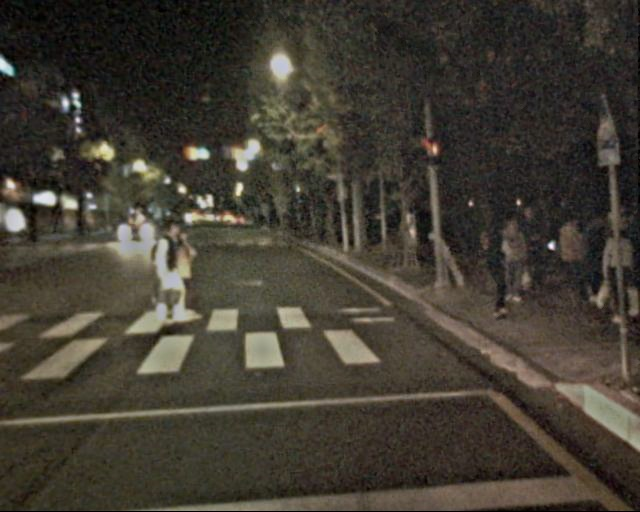person: (492, 208, 539, 326), (146, 219, 188, 321), (596, 231, 637, 330), (157, 231, 194, 322), (554, 213, 590, 302), (575, 211, 611, 300)
